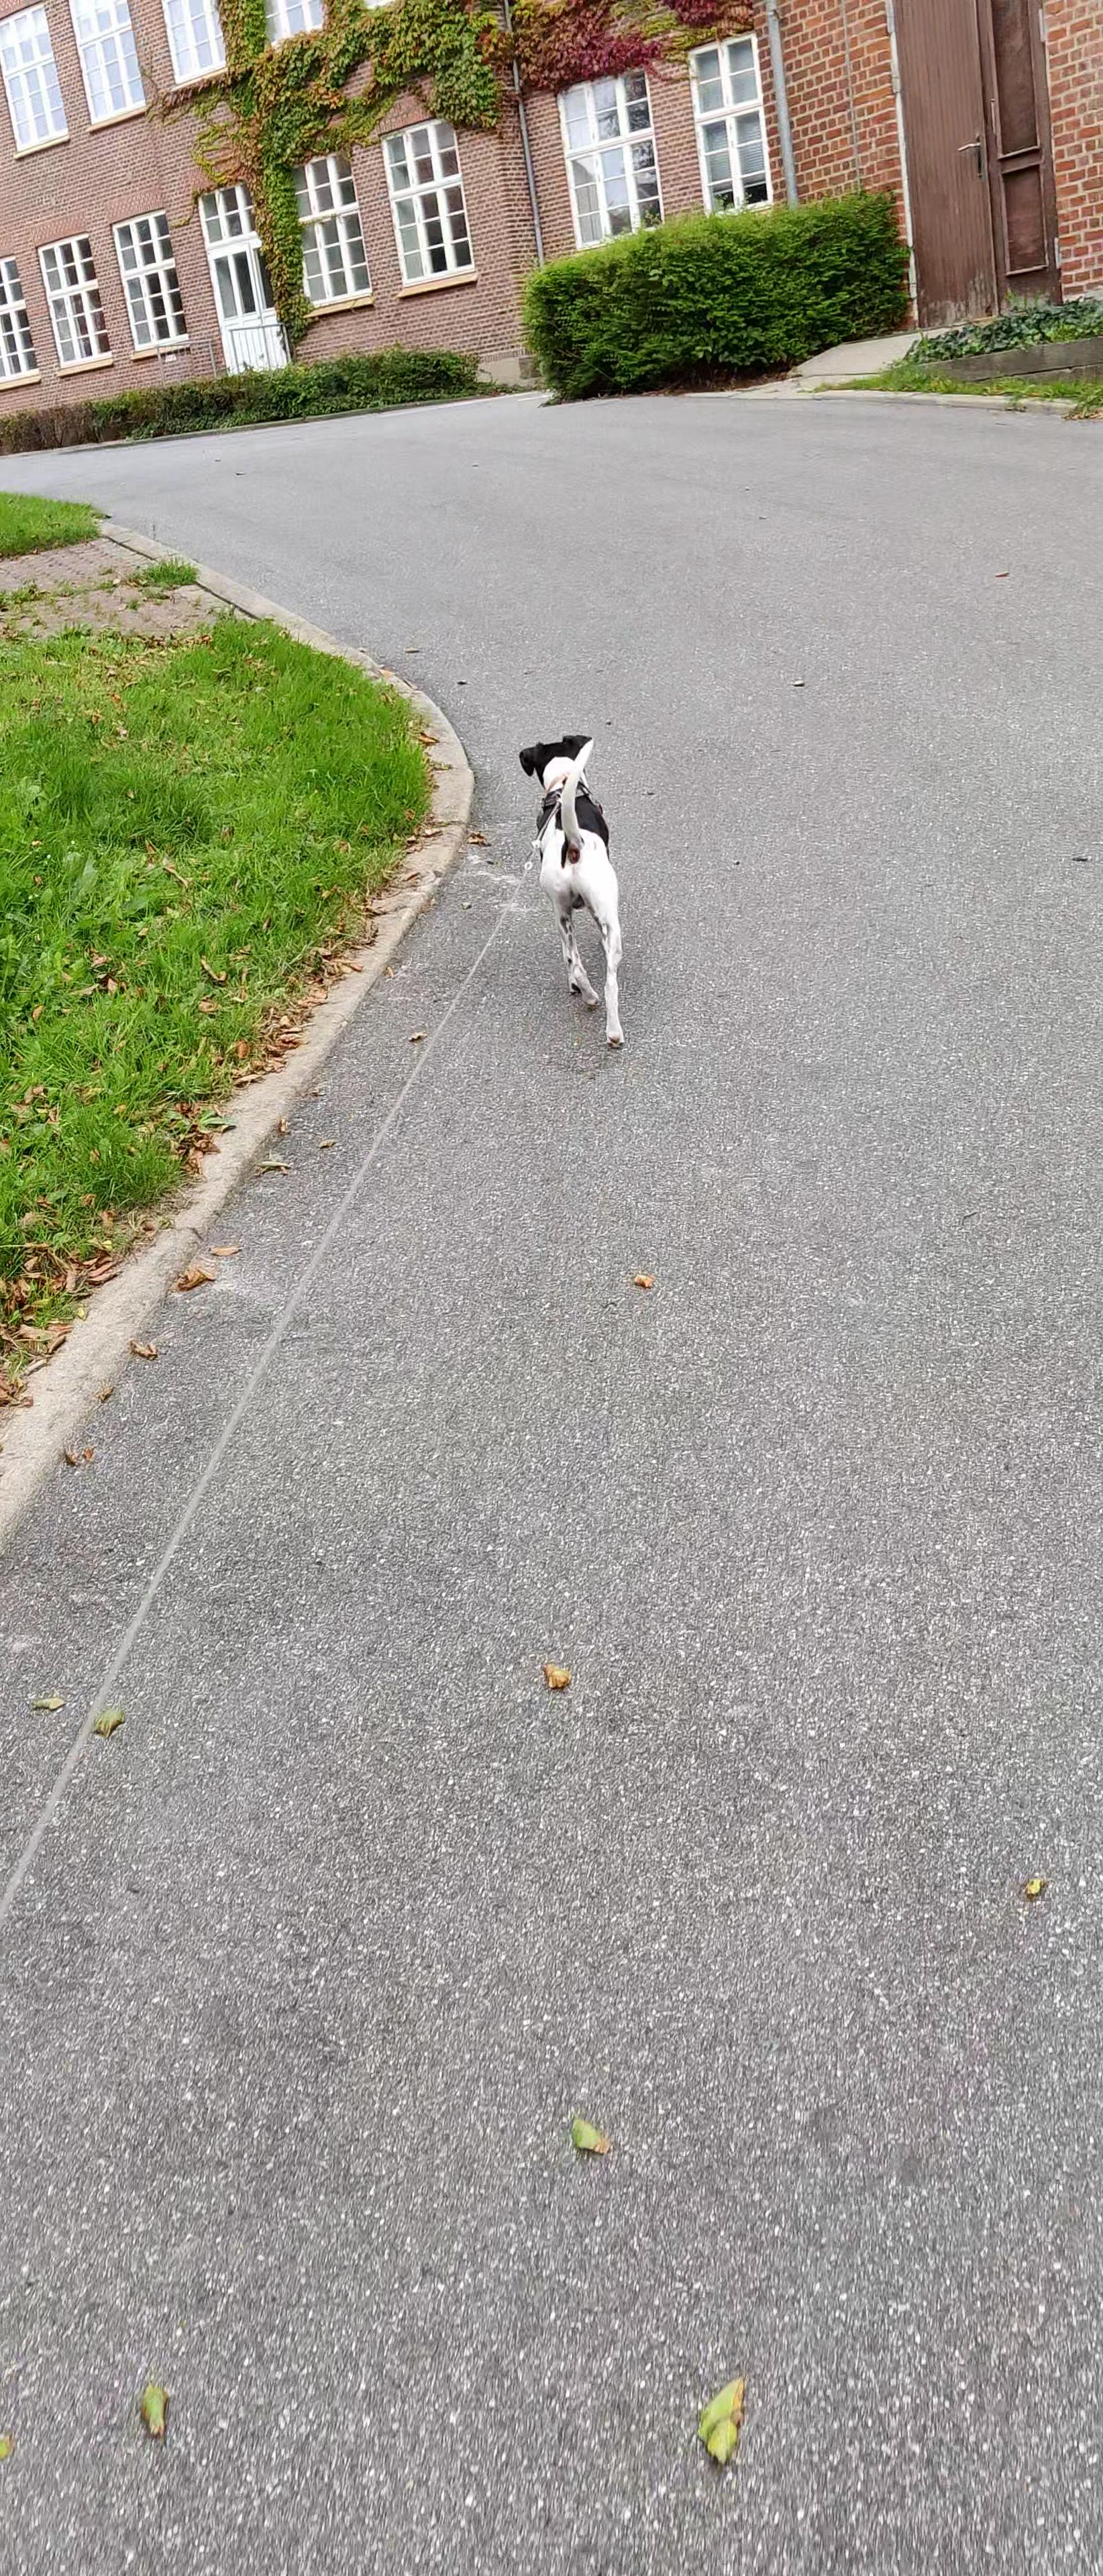Dog: (510, 729, 631, 1053)
